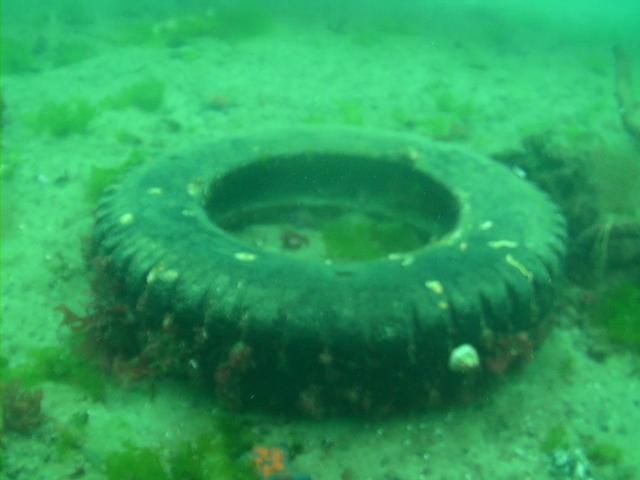tire: (90, 124, 568, 420)
